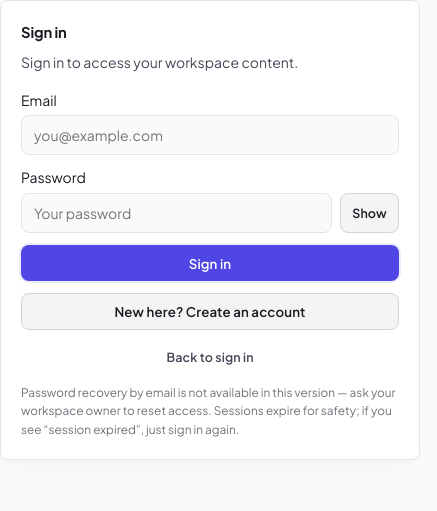
Test case: LoginForm auth bootstrap › shows field-level validation for missing password only
The image size is (437, 511).
Type "a@example.com" into the field with placeholder "you@example.com".
click(210, 135); type("a@example.com")  # box [21,115,399,155]
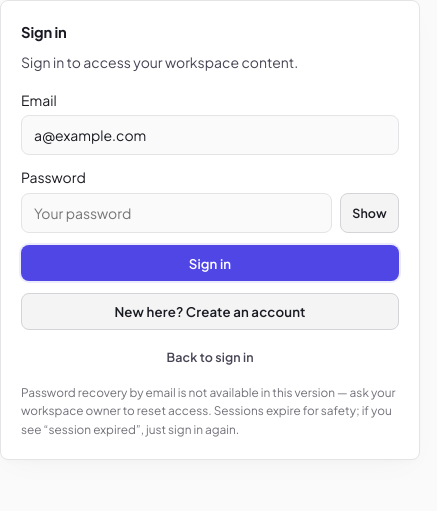
Click the button "Sign in".
click(210, 263)  # box [21,245,399,282]
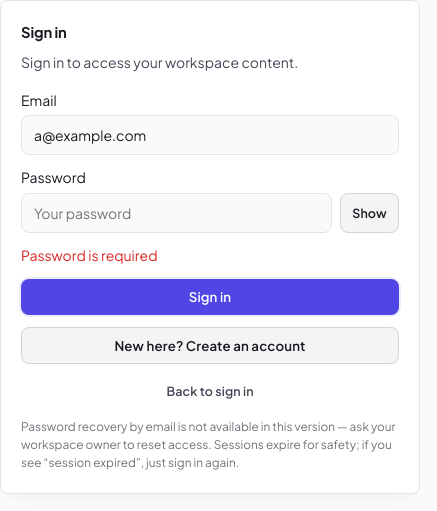
Now the text "Password is required" is shown, box [21,246,158,264]
